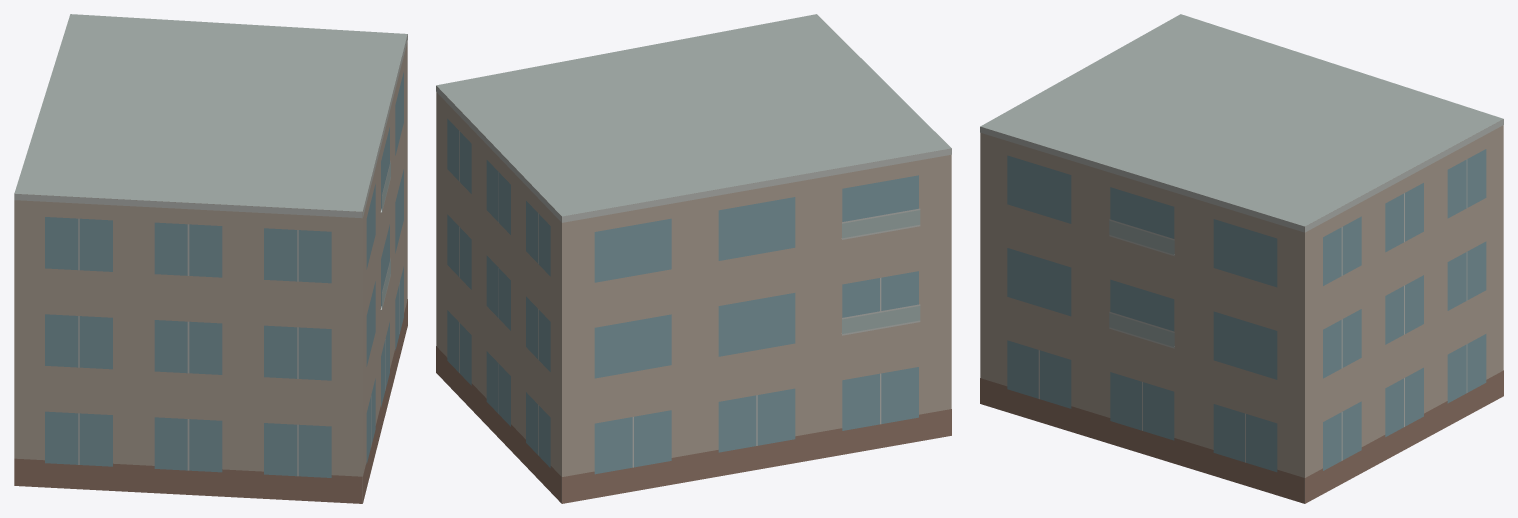
The model's file is survey-upis-32865661.glb.
3 renders of one model, left to right at view 1: azimuth 30°, elevation 25°; view 2: azimuth 150°, elevation 25°; view 3: azimuth 270°, elevation 25°, orthographic. The views are drawn at different scales.
Visible parts, largest first — view 1: survey-upis-32865661.tmp; view 2: survey-upis-32865661.tmp; view 3: survey-upis-32865661.tmp.
Boxes of the visible parts, x1=… form: survey-upis-32865661.tmp: x1=14, y1=14, x2=407, y2=503; survey-upis-32865661.tmp: x1=436, y1=14, x2=951, y2=503; survey-upis-32865661.tmp: x1=980, y1=14, x2=1503, y2=503.
Size of the model in its own units: 18.26 by 11.1 by 19.
